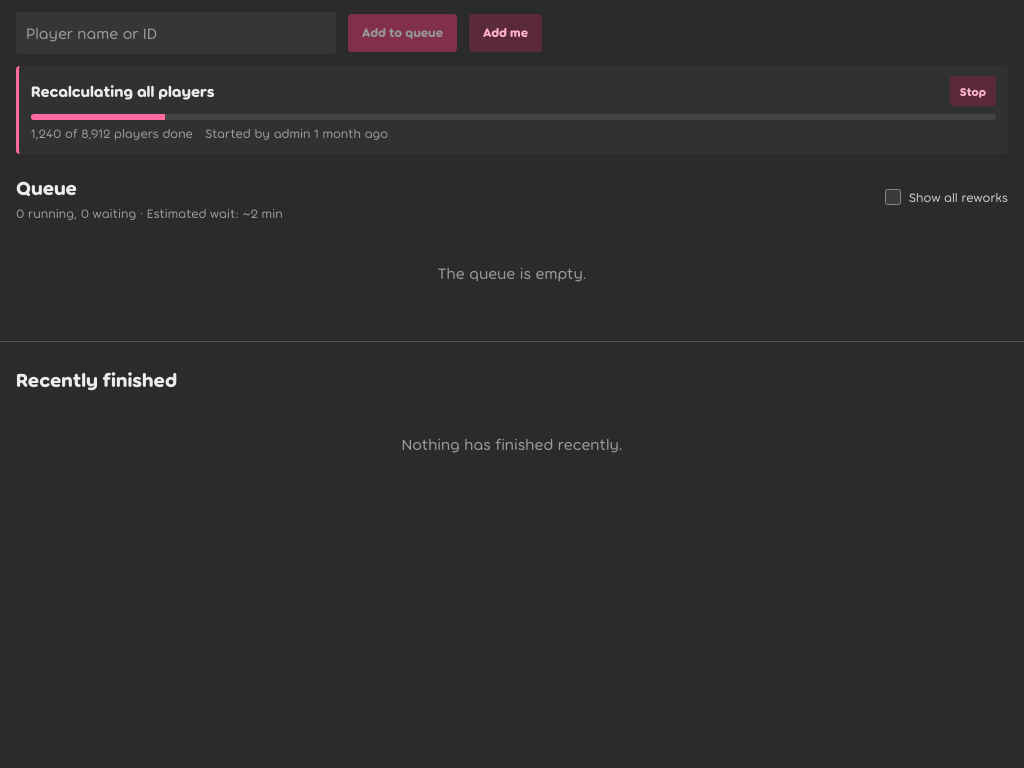
Test: QueueTab › the full run strip › stops the run of the variant and reloads
Click the button "Stop". click: {"x": 973, "y": 91}
box: [950,76,996,106]
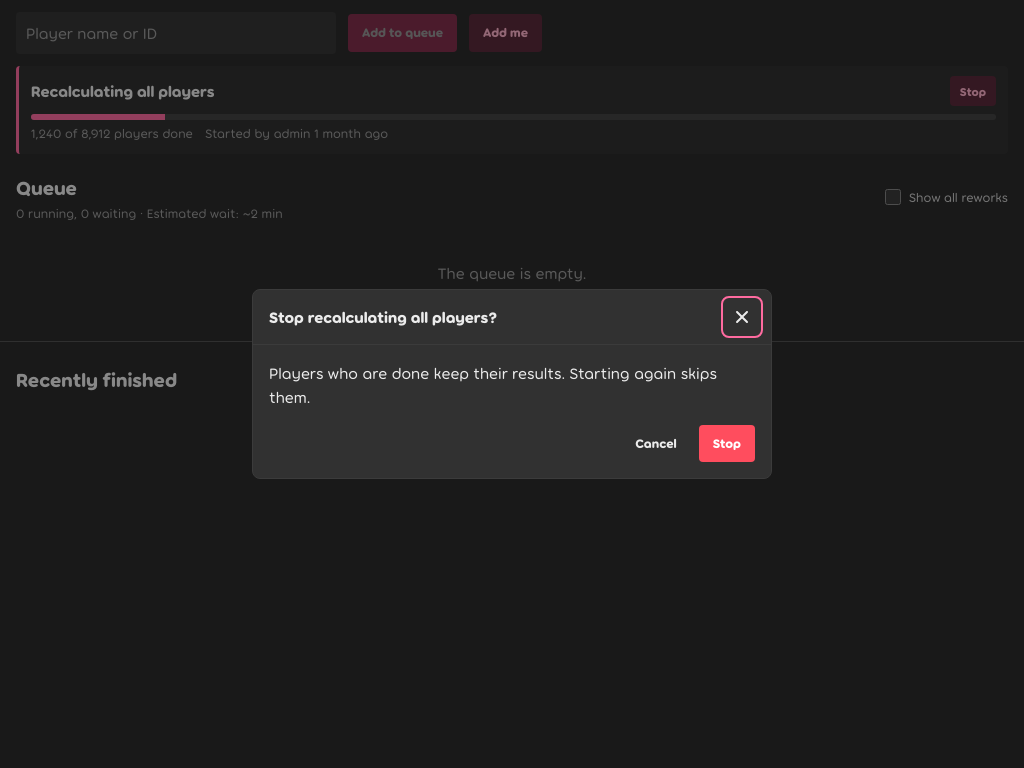
Click the button "Stop". click: {"x": 727, "y": 444}
box: [699,425,755,462]
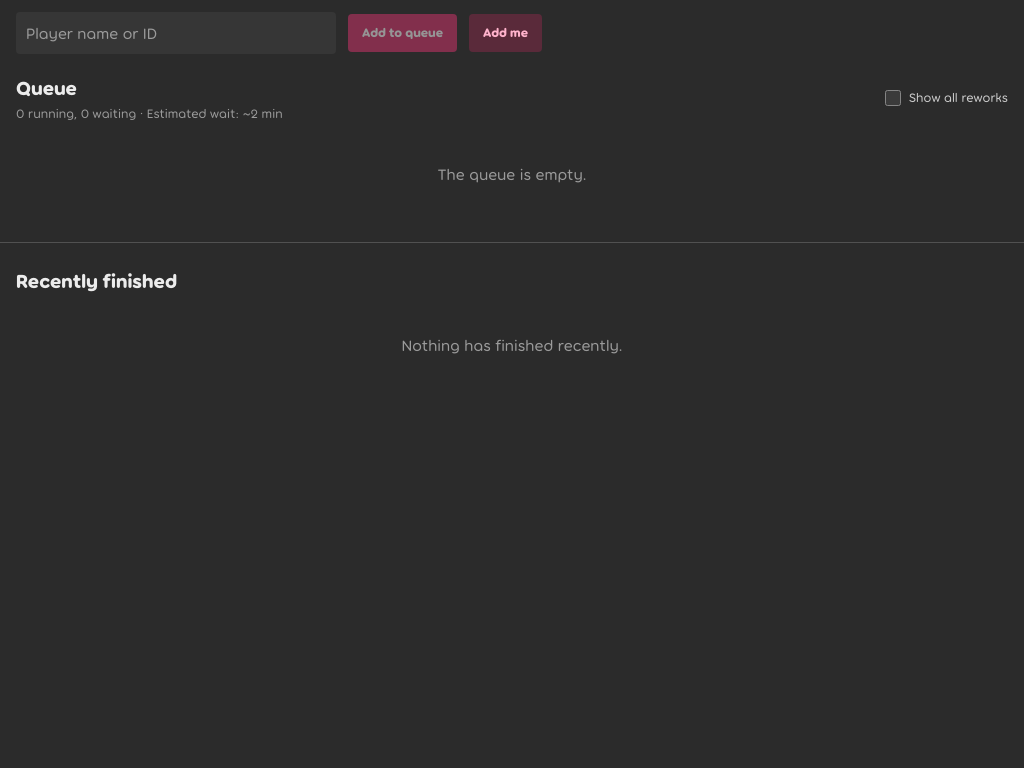
Expected: the heading "Recalculating all players" is gone
